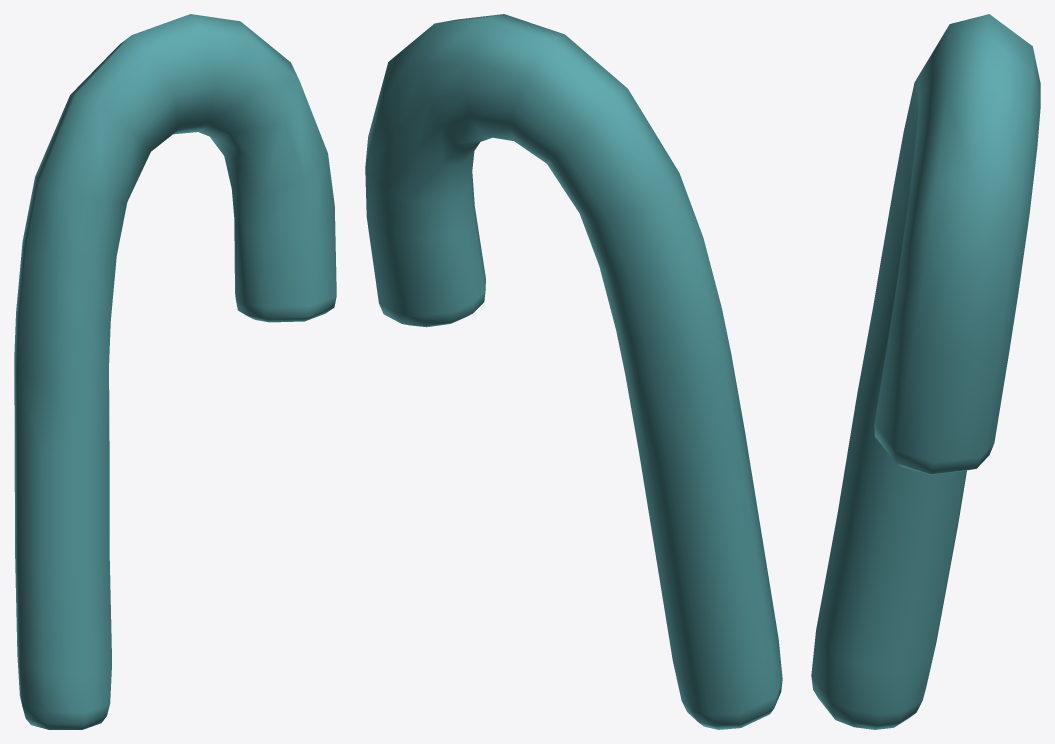
The model's file is candycane_nail.fbx.
3 views of the same model, side by side, from view 1: azimuth 30°, elevation 25°; view 2: azimuth 150°, elevation 25°; view 3: azimuth 270°, elevation 25° (orthographic). The views are drawn at different scales.
Parts seen in each view (by area): view 1: candycane_nail; view 2: candycane_nail; view 3: candycane_nail.
Boxes of the visible parts, box(x1,y1,x2,y2) form: candycane_nail: box(14, 14, 336, 729); candycane_nail: box(365, 14, 782, 729); candycane_nail: box(811, 14, 1040, 729).
Size of the model in its own units: 52.19 by 92.83 by 24.82.
